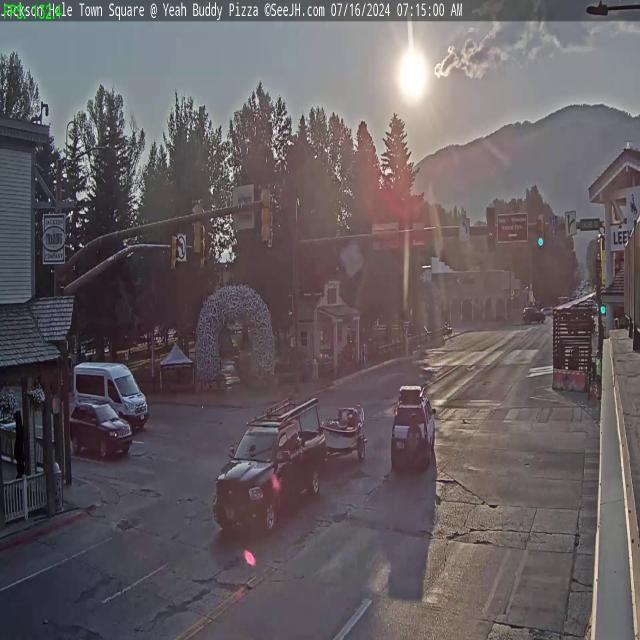pickup: (212, 406, 327, 537)
suv: (389, 386, 436, 472), (67, 400, 132, 462)
traffic light: (190, 200, 203, 256), (260, 184, 272, 243), (486, 207, 496, 252), (170, 230, 180, 272), (198, 240, 210, 272), (536, 214, 545, 247)
van: (70, 360, 148, 424)
